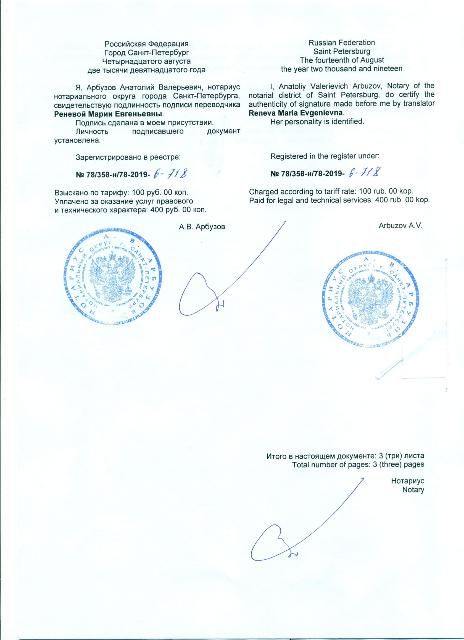stamp: (64, 230, 162, 326), (321, 252, 419, 346)
